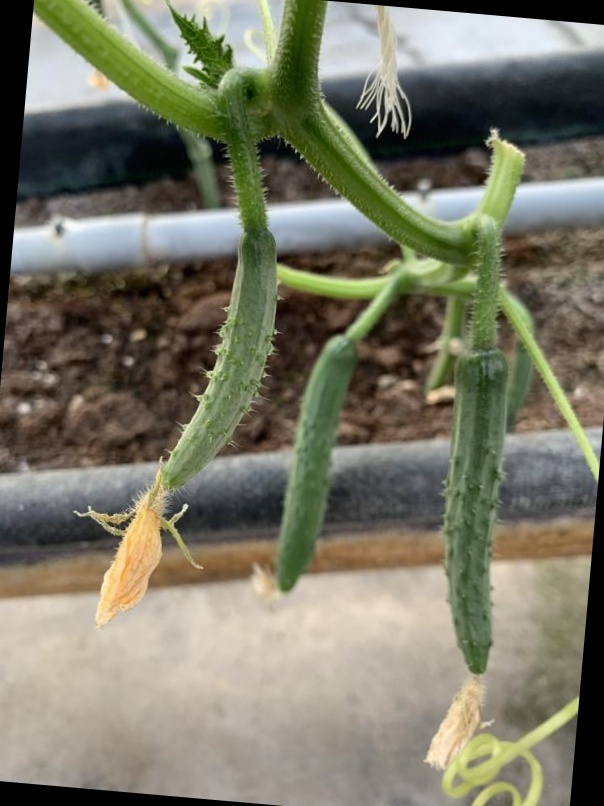bear: (75, 209, 297, 633)
growth: (439, 337, 518, 703), (266, 333, 361, 596)
mature: (266, 331, 360, 598)
